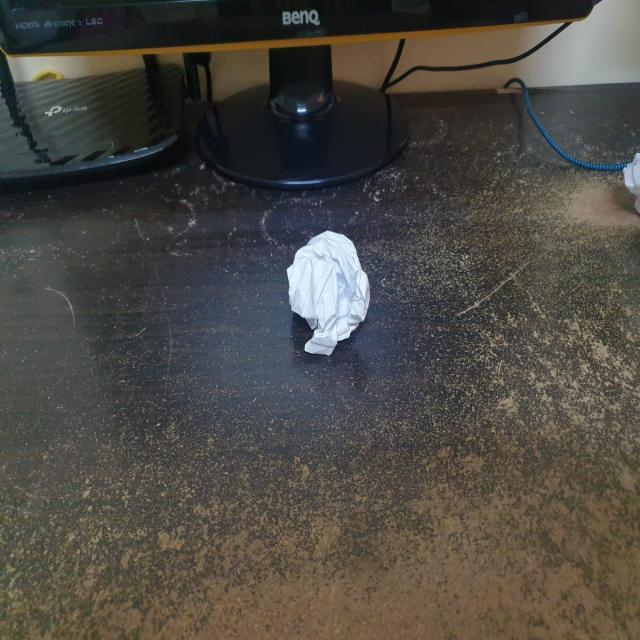Paper: (287, 232, 368, 348)
